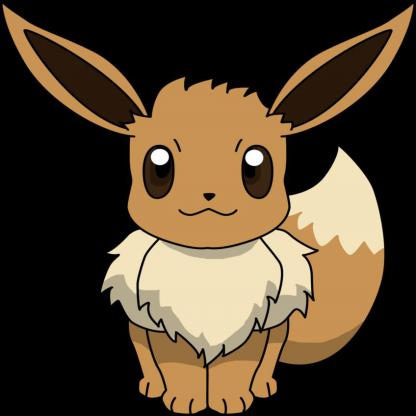Eevee: (1, 4, 416, 405)
